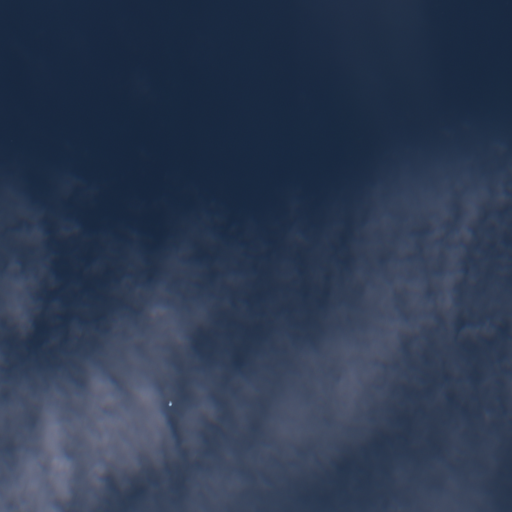Iceberg: (168, 401, 171, 405)
